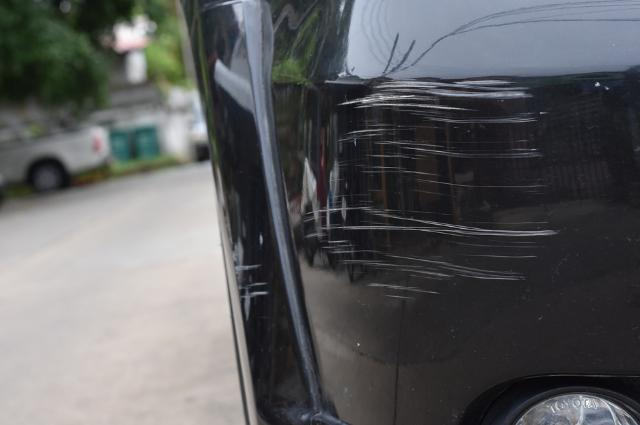Bumper: (227, 54, 566, 329)
